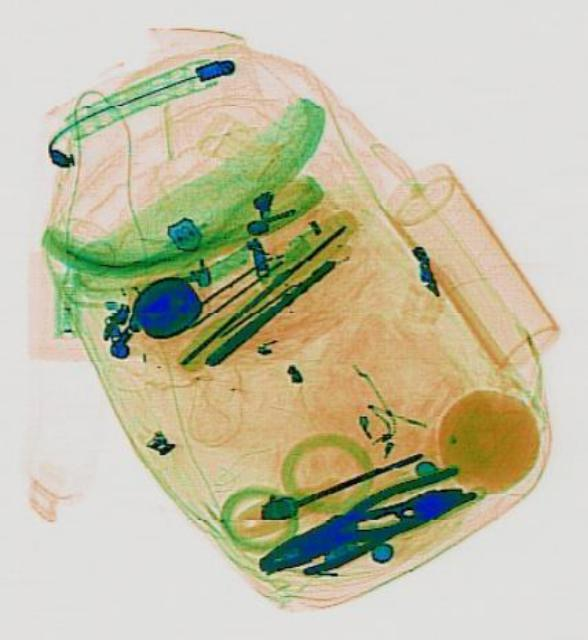Pliers: (247, 456, 475, 586), (284, 465, 467, 579)
